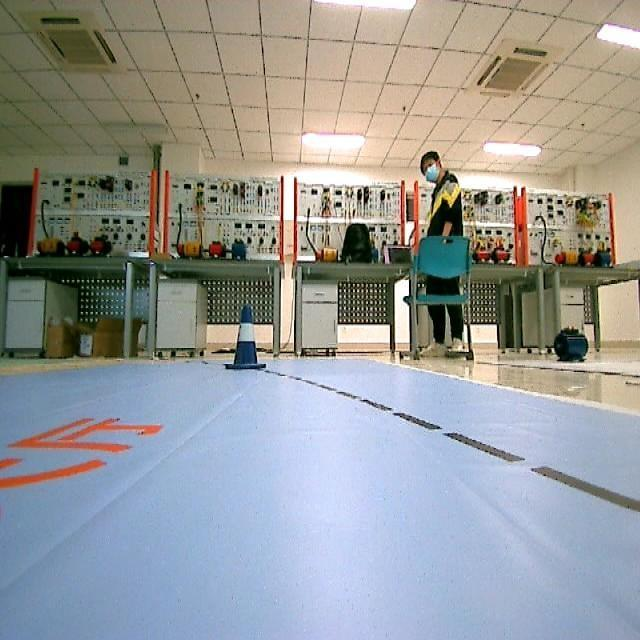obstacle: (221, 306, 266, 374)
